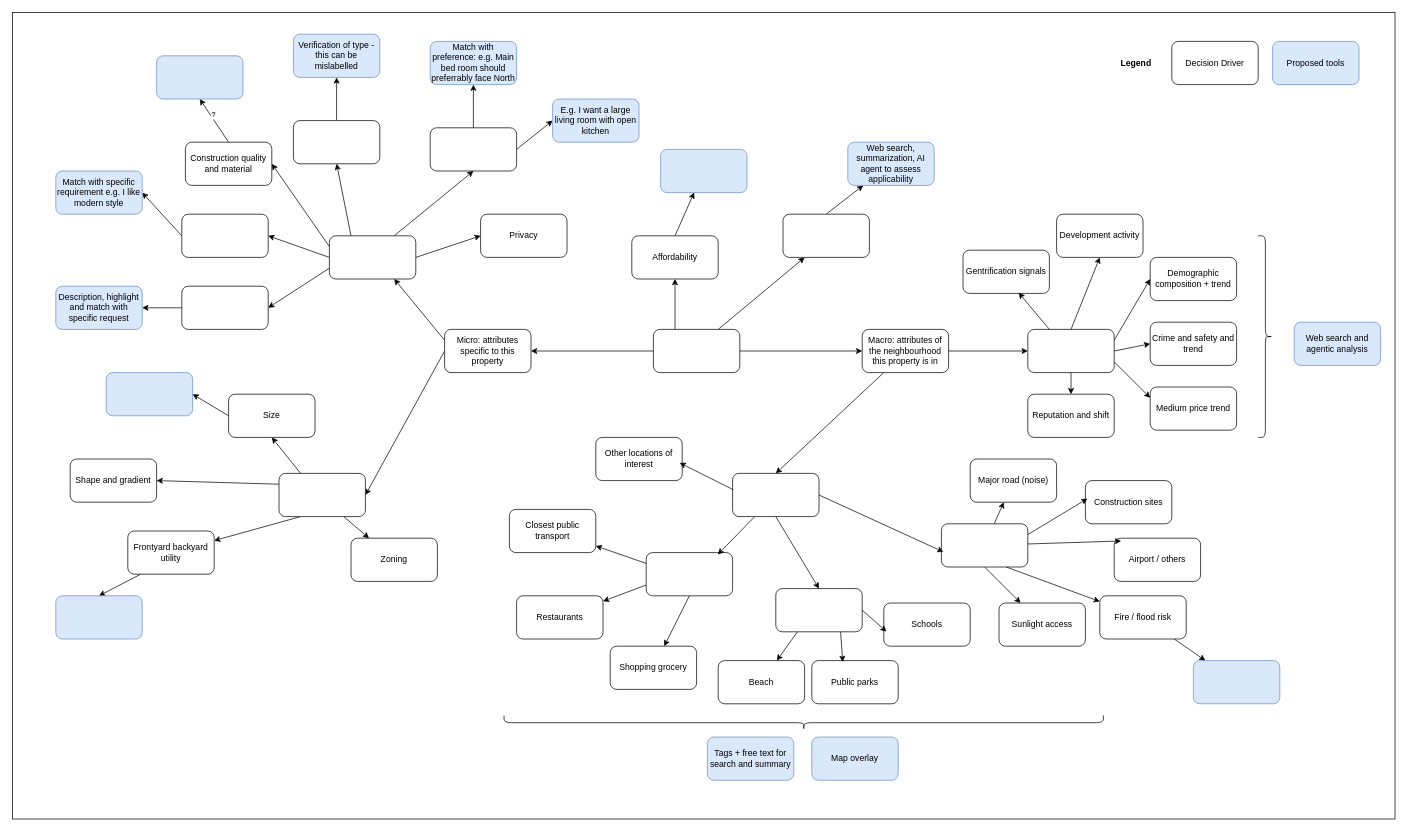
This 1408x832 diagram has some shape labels left out. The centre of each missing label's shape, as x and y in pixels:
"AI assessment" goes at point (98, 617).
"Characteristic of the property" goes at point (372, 257).
"check against requiredment" goes at point (149, 394).
"Deterministic affordability calculatior / simulation" goes at point (703, 171).
"Environmental factors" goes at point (984, 545).
"Features" goes at point (224, 307).
"Gather infromation or check from image??" goes at point (199, 77).
"housing affordability policies and schemes (education)" goes at point (825, 235).
"Land" goes at point (321, 495).
"Layout and oritentation" goes at point (473, 149).
"Life essentials" goes at point (689, 574).
"Lifestyle amenities" goes at point (818, 610).
"Location" goes at point (775, 495).
"Look up against elevation change in google map?" goes at point (1236, 682).
"Neighboorhood opportunities and risks" goes at point (1070, 351).
"Style and aesthetic" goes at point (224, 235).
"Type of dwelling" goes at point (336, 142).
"what do people consider when buying" goes at point (696, 351).
